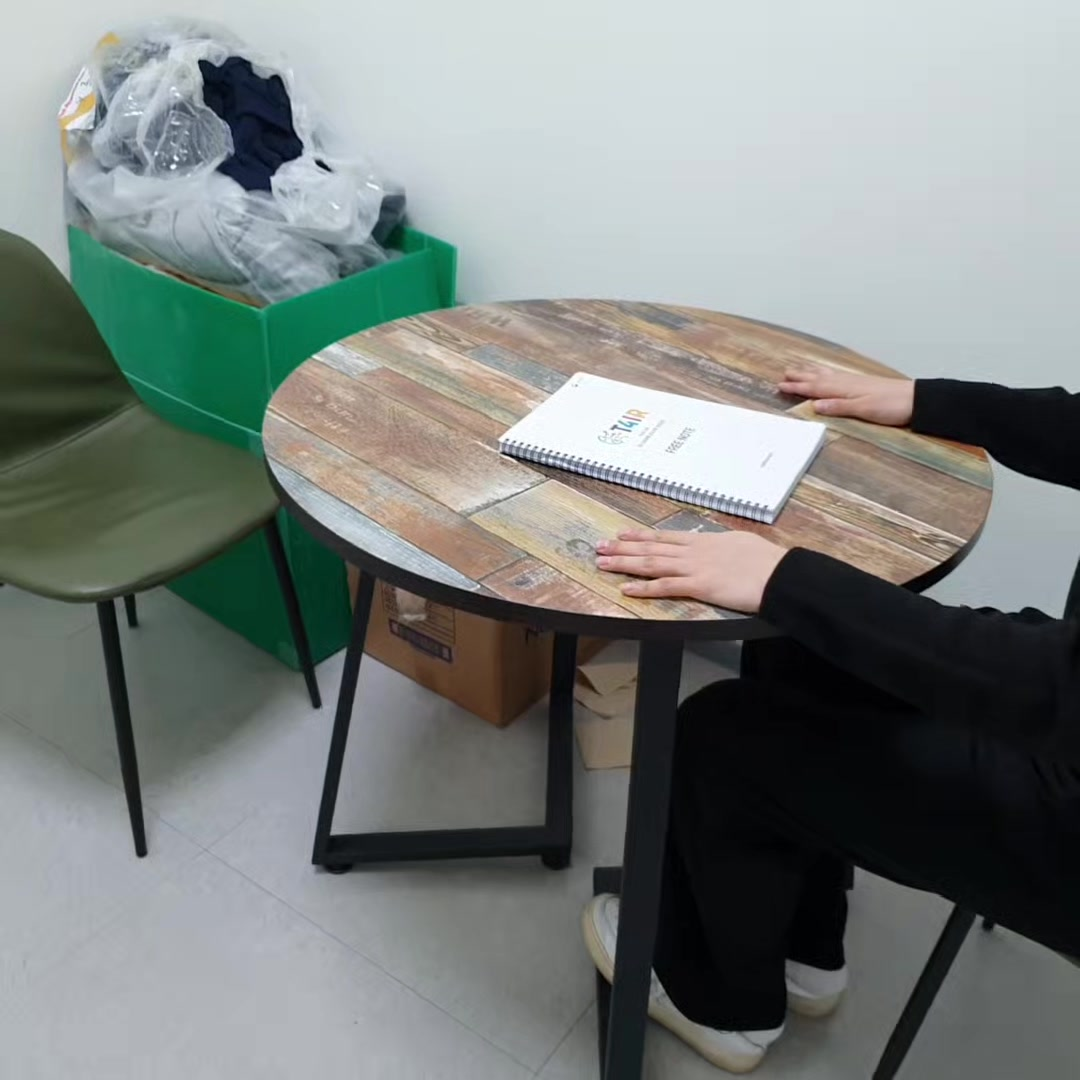book: (492, 369, 833, 531)
